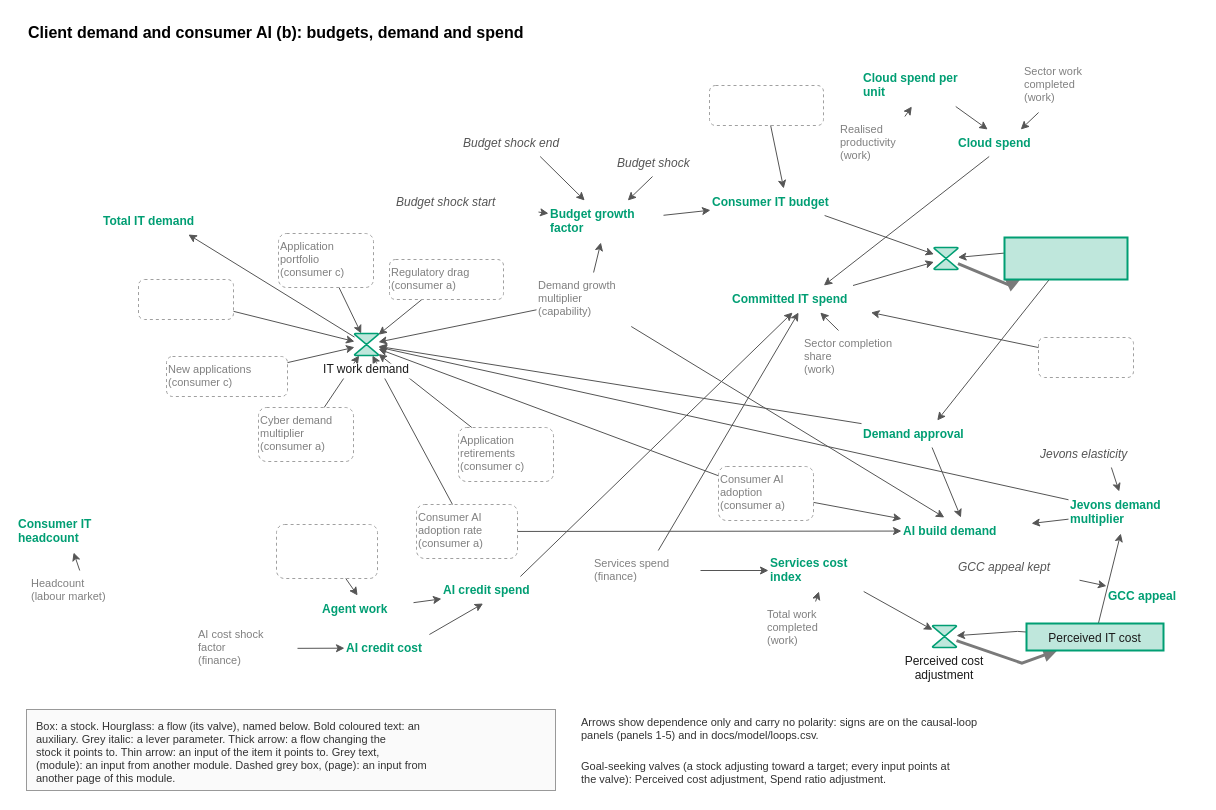
The diagram is 1216 pixels wide and 810 high, and some of its shapes have lost their labels. The shapes that lost their labels are listed below. From the top down, each one's centre as x and y in pixels, then its label:
At (x=766, y=105): "Net LOB savings (consumer a)".
At (x=945, y=258): "Spend ratio adjustment".
At (x=1065, y=258): "Spend to budget ratio".
At (x=186, y=299): "Billed seats (consumer c)".
At (x=1086, y=357): "Seat spend (consumer c)".
At (x=327, y=551): "LOB headcount target (consumer a)".
